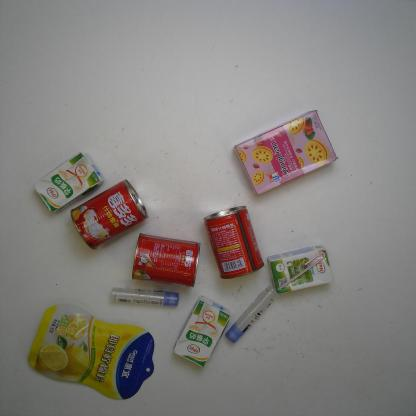Canned Food: (68, 175, 150, 252), (202, 204, 268, 282), (129, 231, 205, 290)
Dessert: (234, 108, 341, 197)
Dried Fruit: (25, 300, 156, 403)
Milk: (29, 149, 104, 215), (169, 294, 233, 370), (264, 242, 336, 297)
Stationery: (222, 283, 281, 344), (106, 283, 181, 310)
